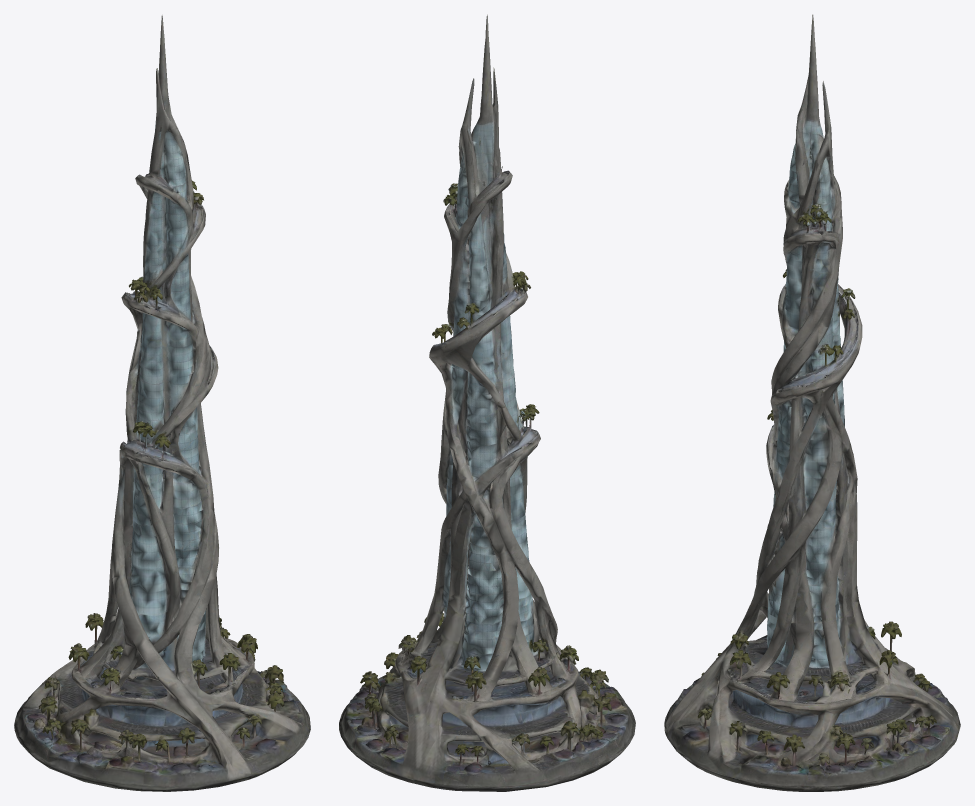
File: bld_palmspire.glb
3 views of the same model, side by side, from view 1: azimuth 30°, elevation 25°; view 2: azimuth 150°, elevation 25°; view 3: azimuth 270°, elevation 25° (orthographic).
Visible parts, largest first — view 1: bld_palmspire; view 2: bld_palmspire; view 3: bld_palmspire.
Part boxes in pixels (left/top/right/bottom): bld_palmspire: left=14, top=15, right=310, bottom=791; bld_palmspire: left=339, top=14, right=635, bottom=791; bld_palmspire: left=664, top=14, right=960, bottom=791.
Bounding box in the file's own units: 0.7129 × 1.9 × 0.7126.
1 material, 1 textured.
